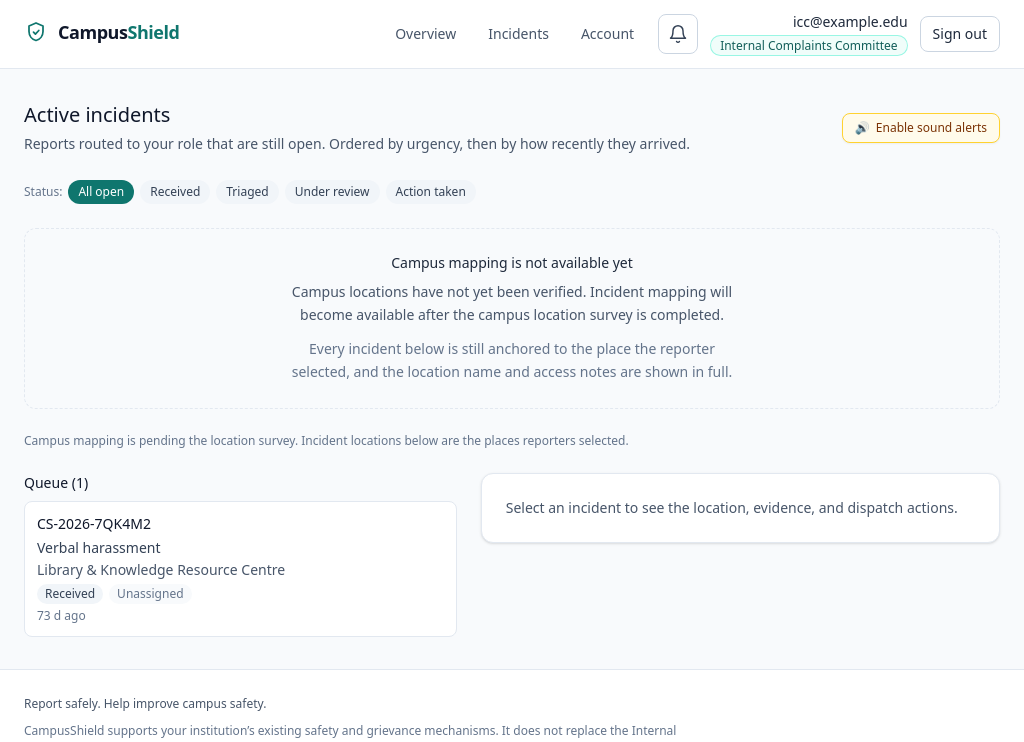
IncidentsPage — evidence › says so plainly when no photograph was attached
Click the button "CS-2026-7QK4M2". click: (240, 569)
box: [24,501,457,637]
(page scrolled)
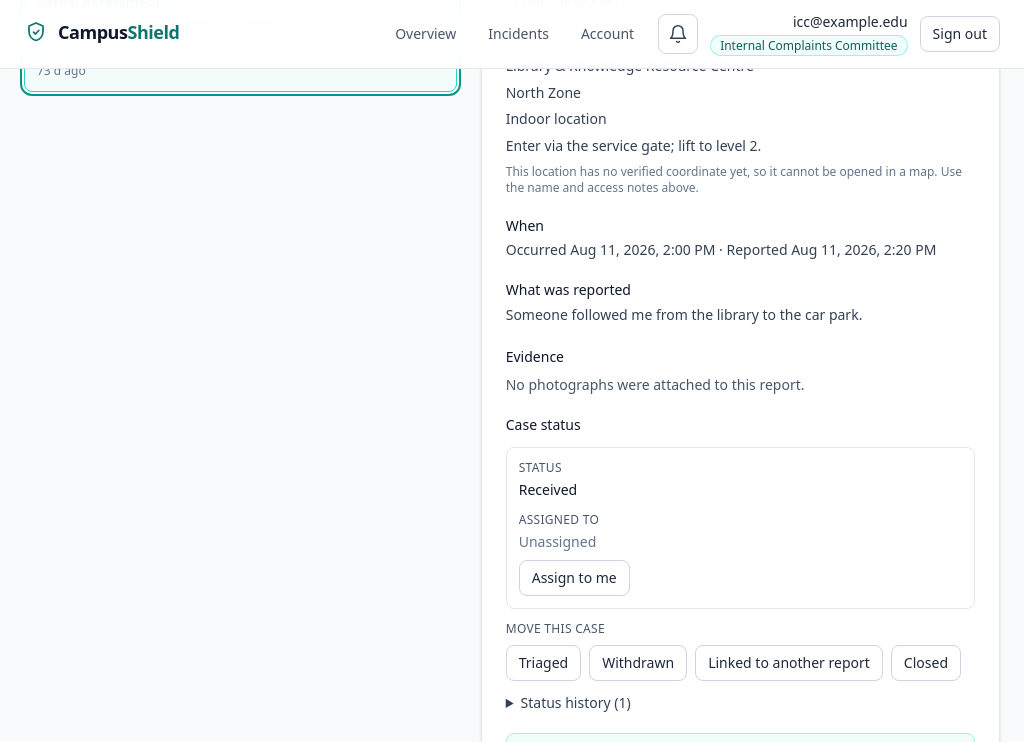
Expected: the text "No photographs were attached to this report." is shown, [506,374,804,394]
